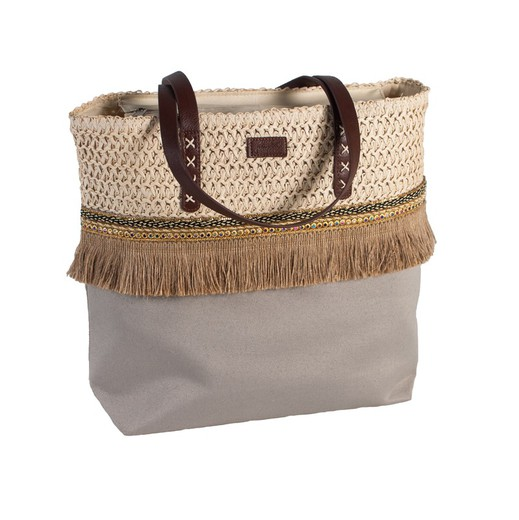cartera: (57, 60, 445, 446)
lona: (191, 316, 348, 382)
